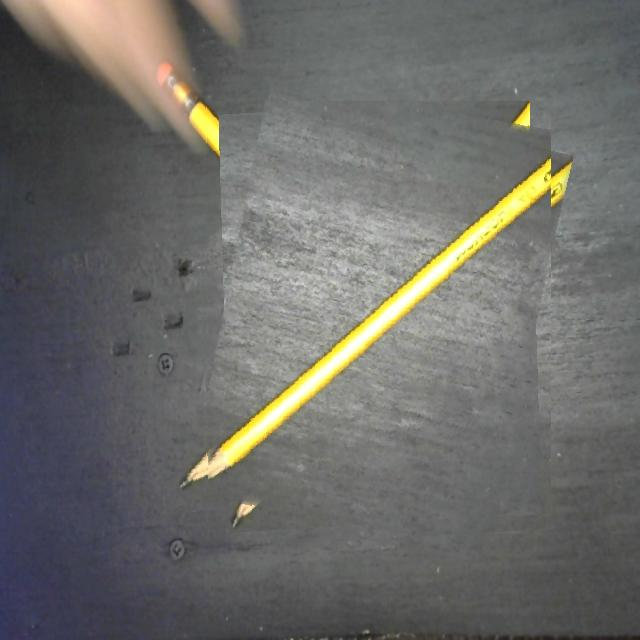biodegradable: (198, 101, 552, 549)
